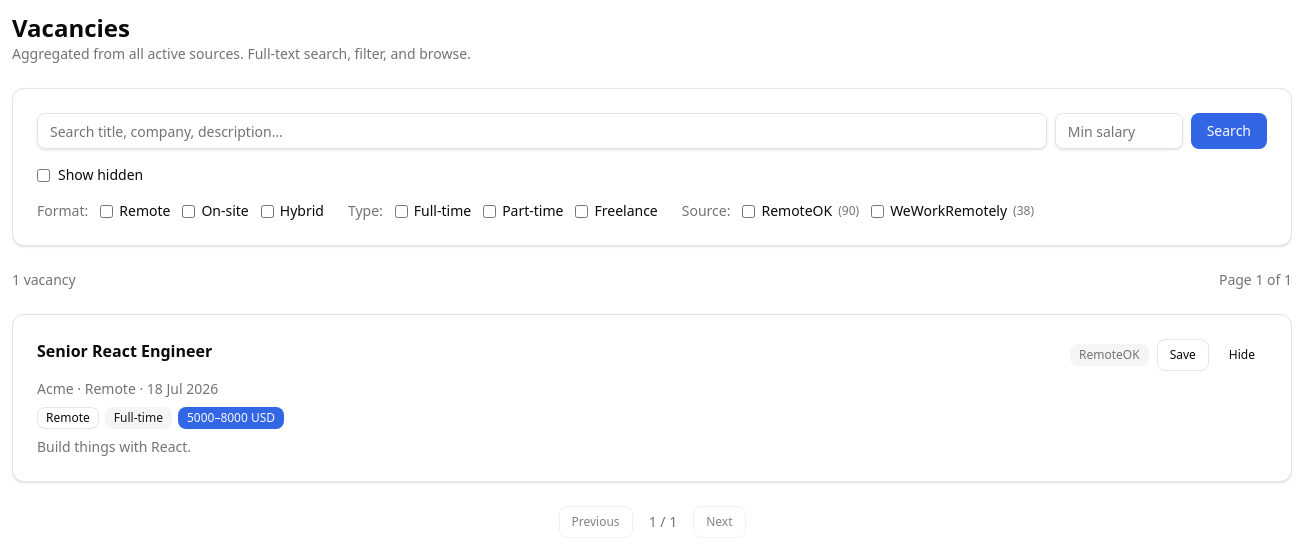
FeedBrowser › fetches with the query when the user searches
Type "go" into the field named "Search vacancies".
click(542, 131); type("go")  # box [37,113,1047,149]
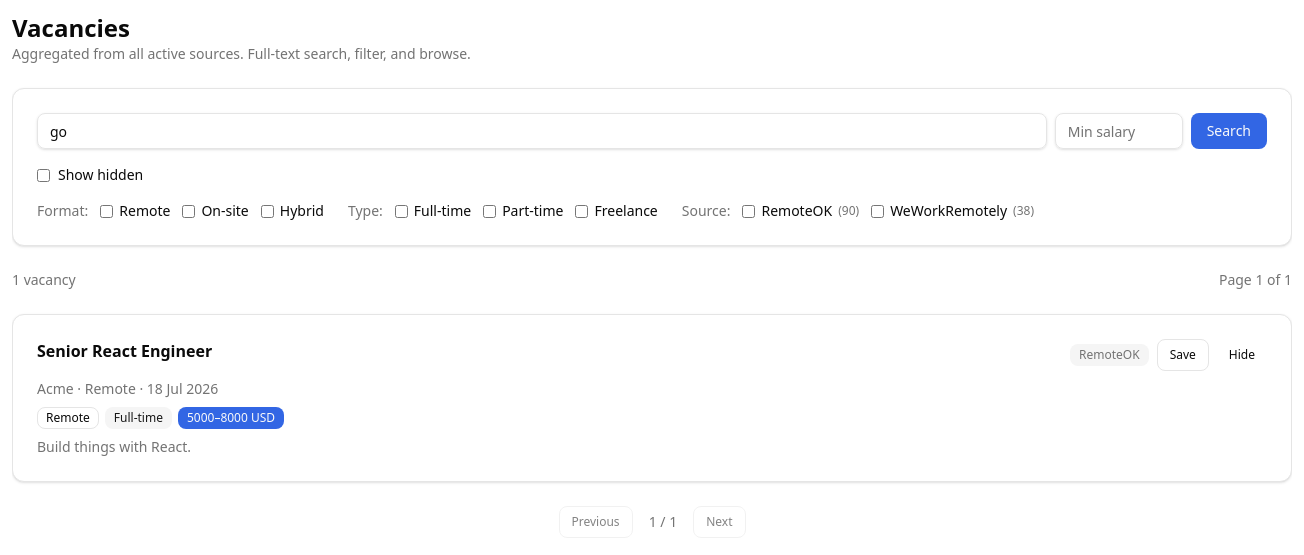
Click the button "Search".
click(1229, 131)  # box [1191,113,1267,149]
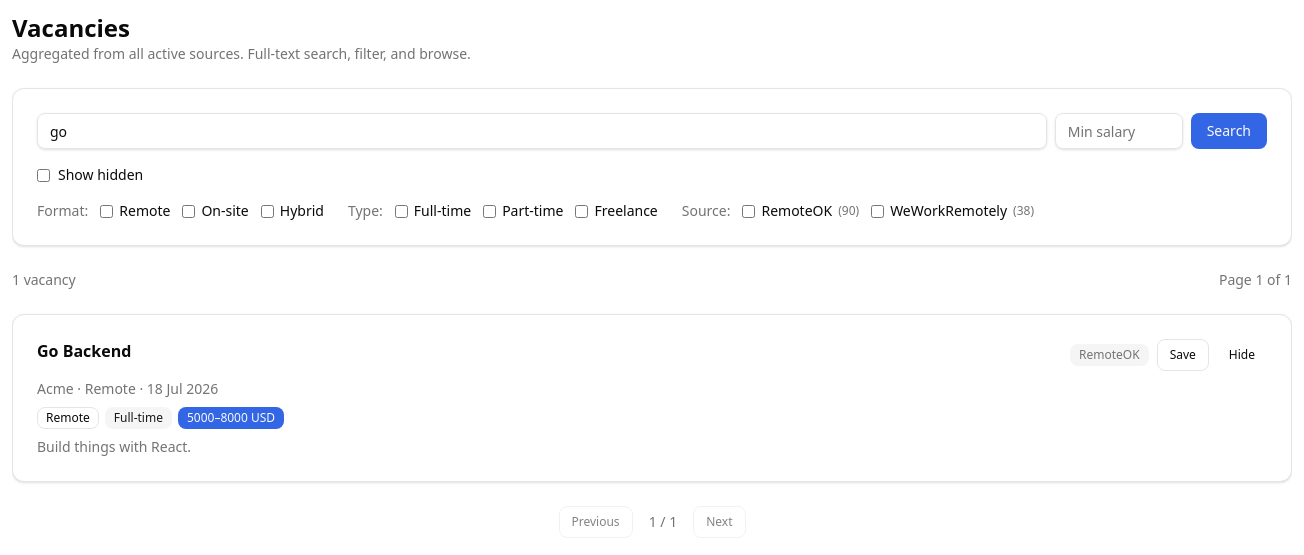
Now the link "Go Backend" is shown, box [37,339,131,363]
